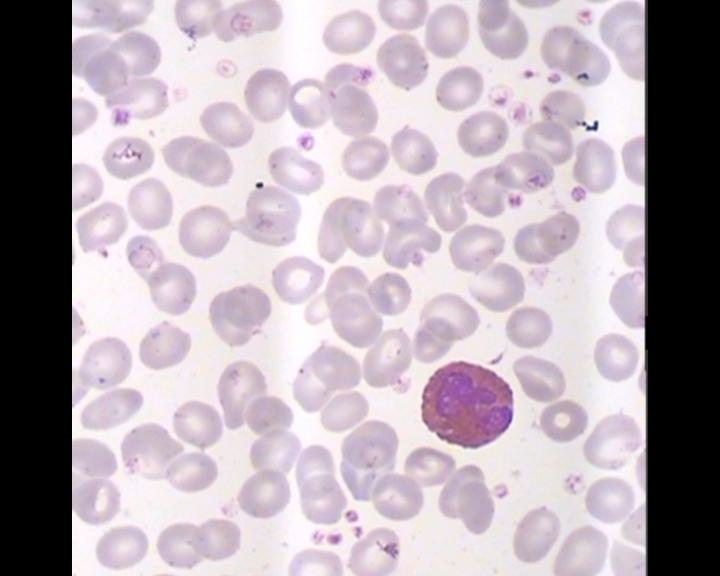eosi: (417, 359, 516, 452)
